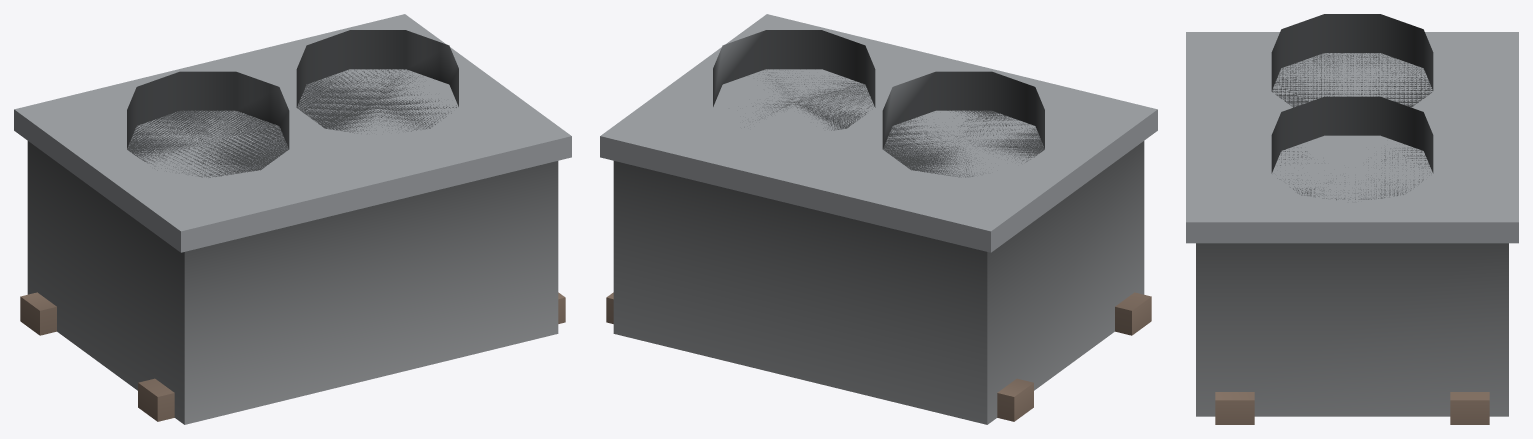
Rendered from hvac_unit.lod1.glb.
3 views of the same model, side by side, from view 1: azimuth 30°, elevation 25°; view 2: azimuth 150°, elevation 25°; view 3: azimuth 270°, elevation 25° (orthographic).
Visible parts, largest first — view 1: props_hvac_unit.lod1; view 2: props_hvac_unit.lod1; view 3: props_hvac_unit.lod1.
Part boxes in pixels (x1,y1,x2,y2): props_hvac_unit.lod1: [14, 14, 571, 424]; props_hvac_unit.lod1: [600, 14, 1157, 424]; props_hvac_unit.lod1: [1186, 14, 1518, 424].
Bounding box in the file's own units: 2.4 × 1.34 × 1.7.
